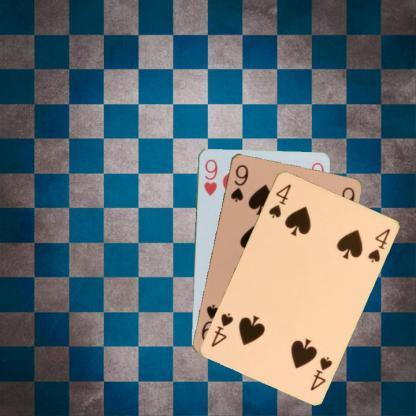4s: (307, 354, 336, 392), (265, 181, 292, 219)
9h: (201, 156, 219, 198)
9s: (228, 162, 250, 203)
